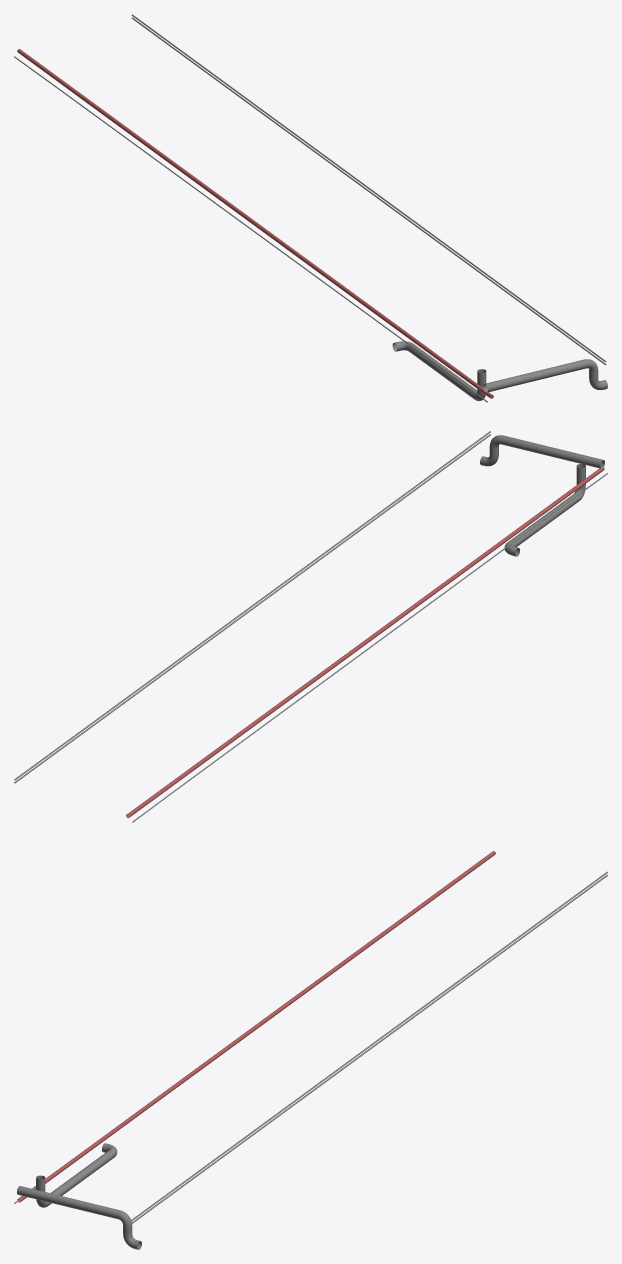
The picture shows the model from 3 angles, top to bottom: view 1: azimuth 30°, elevation 25°; view 2: azimuth 150°, elevation 25°; view 3: azimuth 330°, elevation 25°; orthographic projection.
Visible parts, largest first — view 1: SM_H_Building_FutureTech_HLight_01_InterWall_05B; view 2: SM_H_Building_FutureTech_HLight_01_InterWall_05B; view 3: SM_H_Building_FutureTech_HLight_01_InterWall_05B.
Boxes of the visible parts, x1=… form: SM_H_Building_FutureTech_HLight_01_InterWall_05B: x1=14, y1=14, x2=607, y2=402; SM_H_Building_FutureTech_HLight_01_InterWall_05B: x1=14, y1=431, x2=607, y2=822; SM_H_Building_FutureTech_HLight_01_InterWall_05B: x1=14, y1=851, x2=607, y2=1249.
Bounding box in the file's own units: 612 × 91.76 × 25.23.
